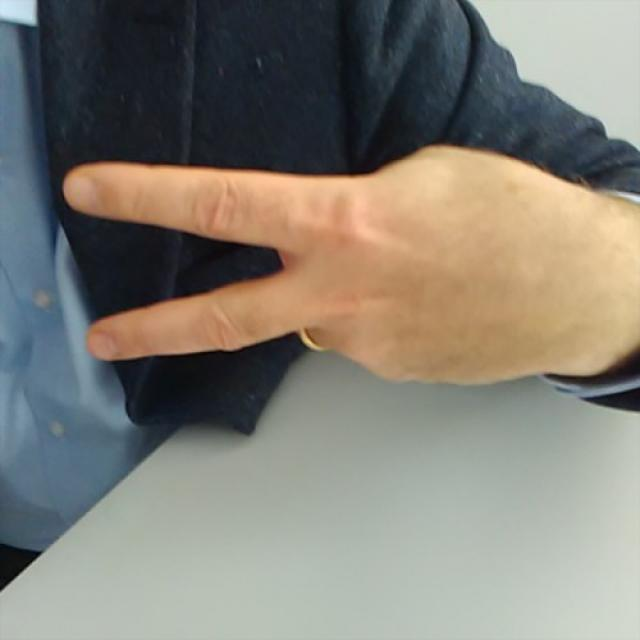scissors: (57, 141, 513, 390)
